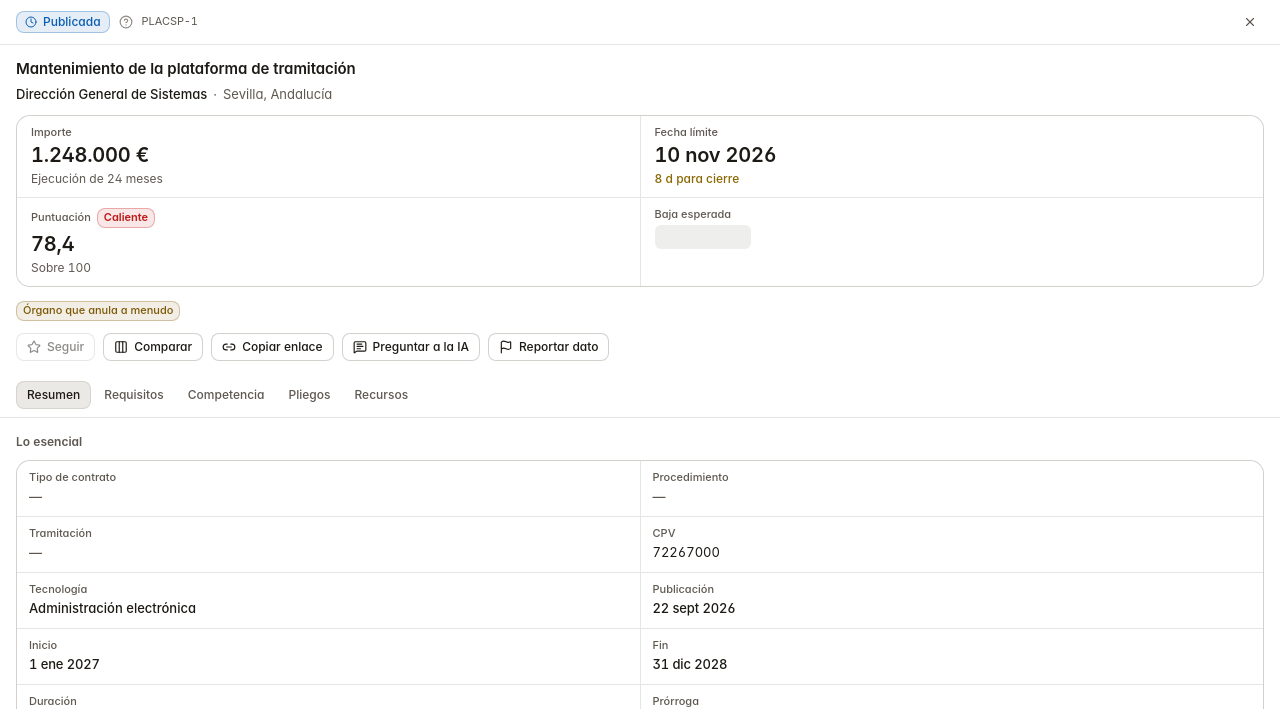
Test: DetailInspector › reparte el resto en cinco pestañas y Competencia trae la competencia esperada
The width and height of the screenshot is (1280, 709).
Click the tab "Competencia" at (226, 395), box [177,381,276,409]
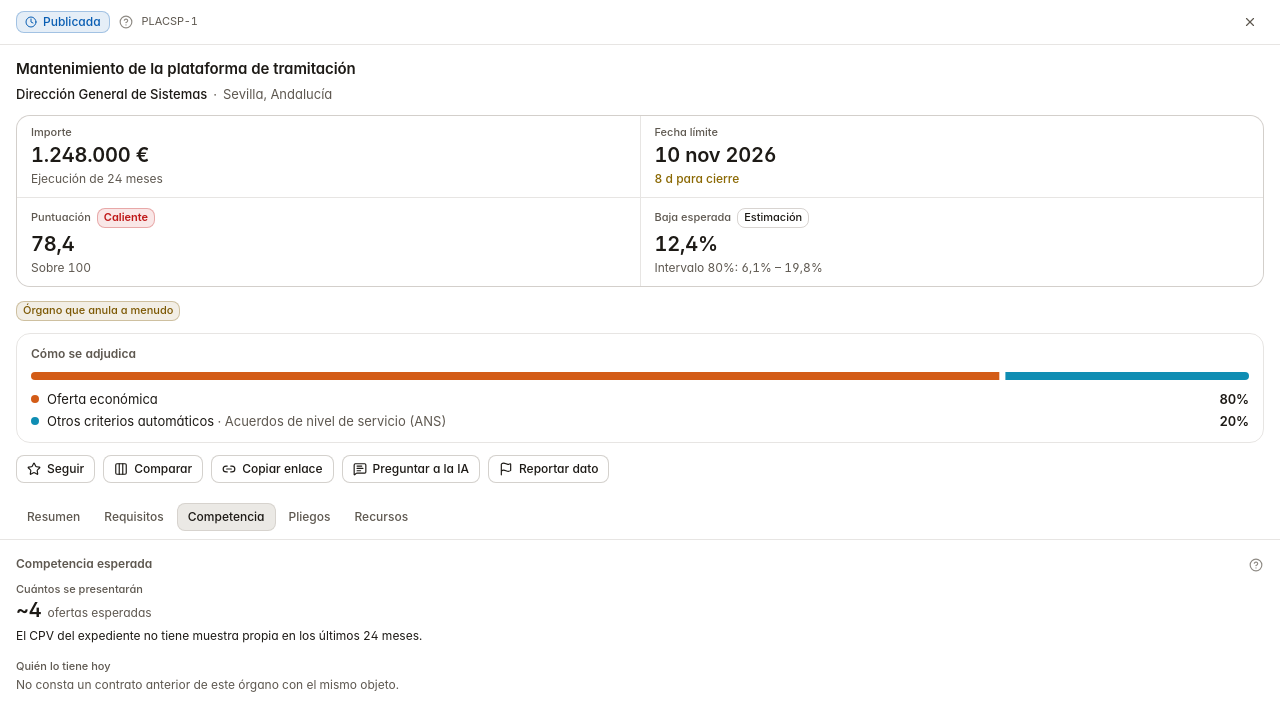
Check: the heading "Competencia esperada" is shown, box [16,556,152,573]
